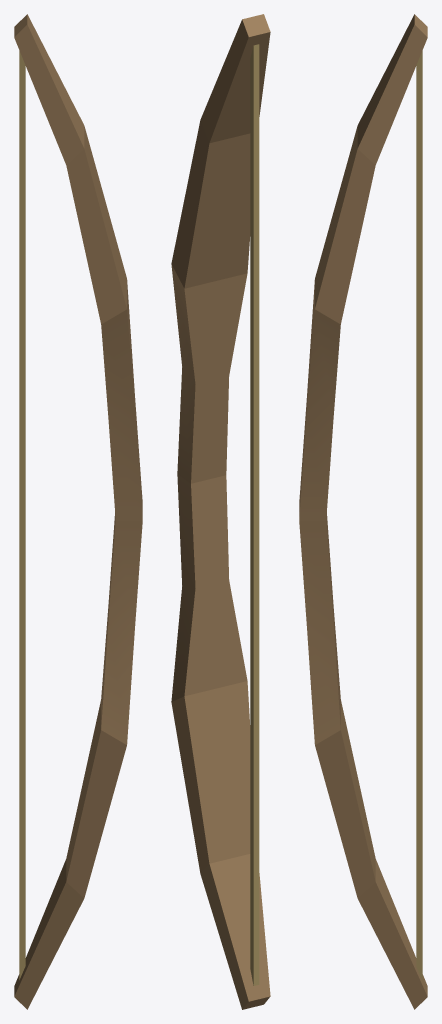
The model's file is Bow_01.fbx.
The picture shows the model from 3 angles, left to right: view 1: azimuth 90°, elevation 25°; view 2: azimuth 210°, elevation 25°; view 3: azimuth 270°, elevation 25°; orthographic projection.
Visible parts, largest first — view 1: Bow_01; view 2: Bow_01; view 3: Bow_01.
Part boxes in pixels (left/top/right/bottom): Bow_01: left=14, top=14, right=142, bottom=1009; Bow_01: left=171, top=14, right=270, bottom=1009; Bow_01: left=299, top=14, right=427, bottom=1009.
Bounding box in the file's own units: 1.65 × 24.78 × 2.93.
